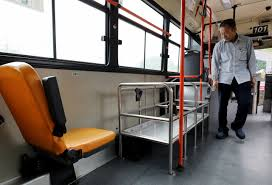seat: (5, 60, 118, 163)
